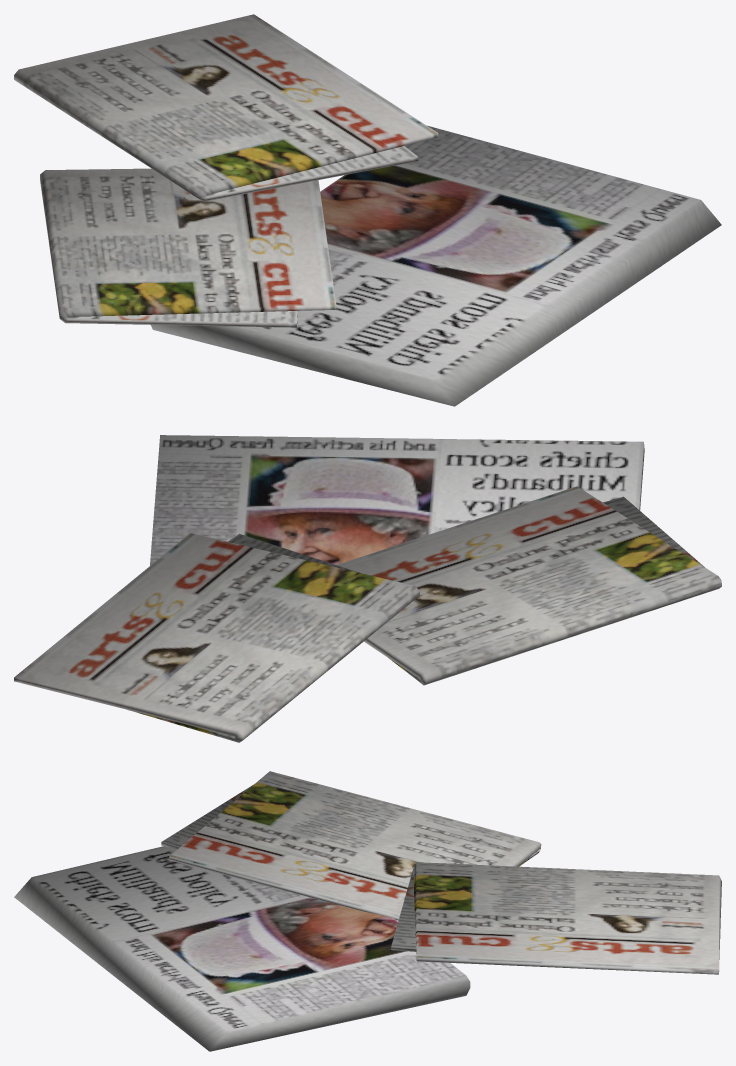
The model's file is ShenFuXiuXiShi_01_baozhi_01.FBX.
3 renders of one model, top to bottom at view 1: azimuth 30°, elevation 25°; view 2: azimuth 150°, elevation 25°; view 3: azimuth 270°, elevation 25°, orthographic. The views are drawn at different scales.
Visible parts, largest first — view 1: ShenFuXiuXiShi_01_baozhi_01; view 2: ShenFuXiuXiShi_01_baozhi_01; view 3: ShenFuXiuXiShi_01_baozhi_01.
Part boxes in pixels (x1,y1,x2,y2): ShenFuXiuXiShi_01_baozhi_01: (14, 14, 721, 406); ShenFuXiuXiShi_01_baozhi_01: (14, 435, 721, 742); ShenFuXiuXiShi_01_baozhi_01: (14, 771, 721, 1051).
Size of the model in its own units: 276 by 17.87 by 331.
